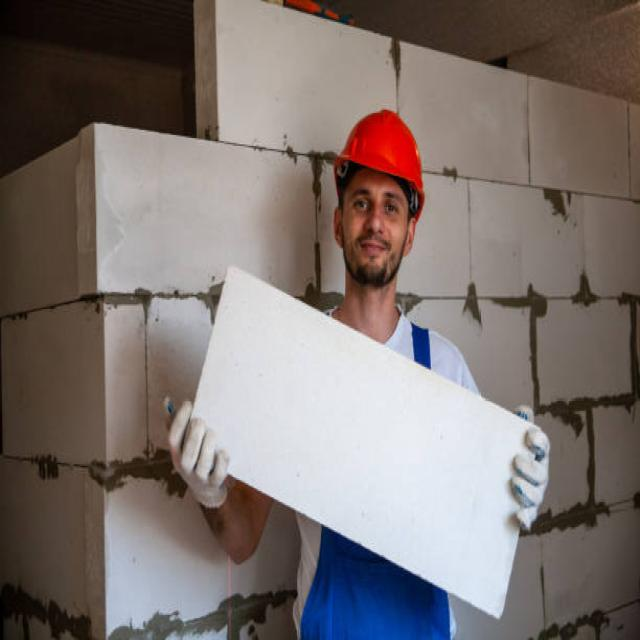Gloves: (159, 388, 234, 516), (503, 396, 552, 542)
helmet: (331, 111, 430, 224)
person: (158, 108, 553, 640)
